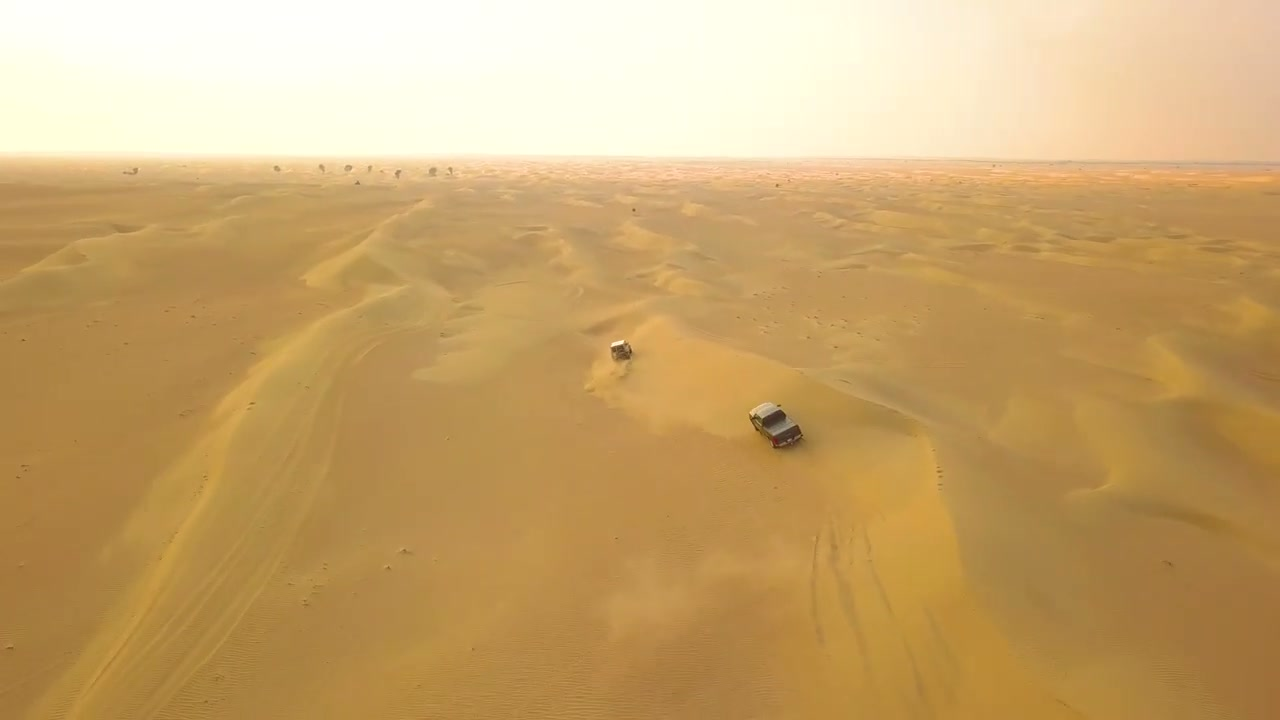vehicle_track: (69, 326, 395, 719), (822, 500, 951, 715)
